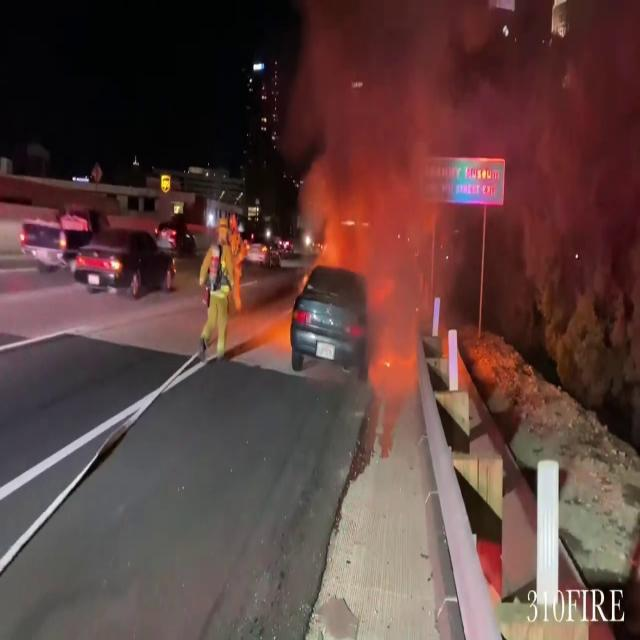Smoke: (287, 1, 633, 248)
